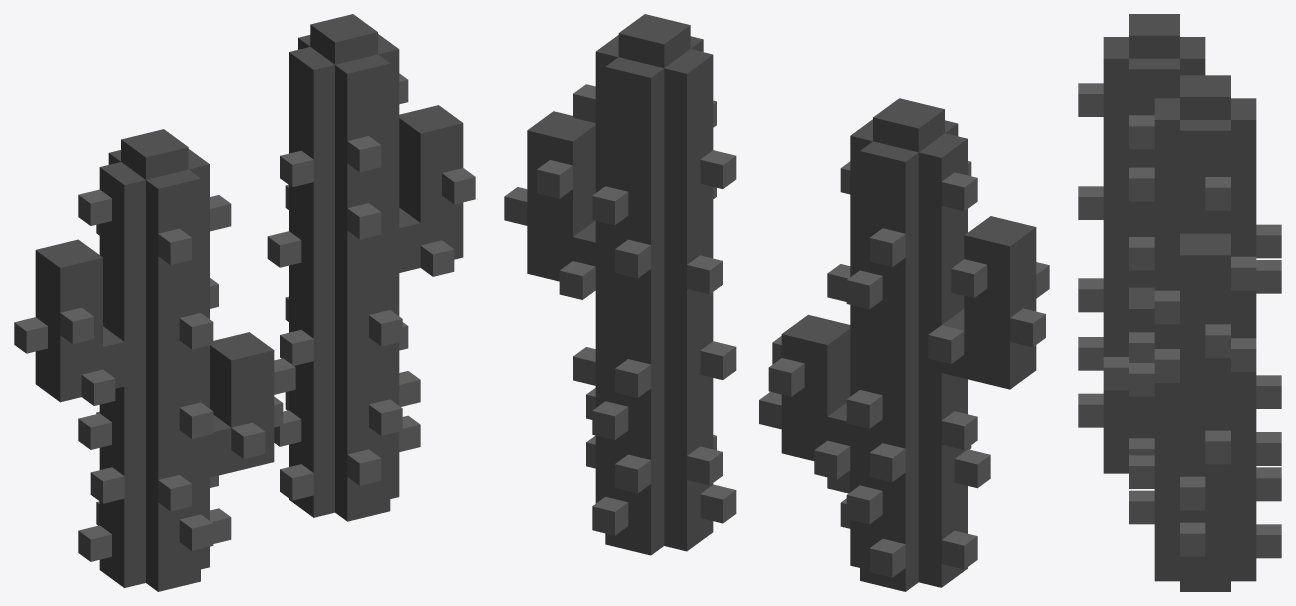
File: Cactus_2x2.gltf
3 views of the same model, side by side, from view 1: azimuth 30°, elevation 25°; view 2: azimuth 150°, elevation 25°; view 3: azimuth 270°, elevation 25° (orthographic). The views are drawn at different scales.
Bounding box in the file's own units: 2.2 × 2.1 × 0.8.
1 material, 1 textured.
